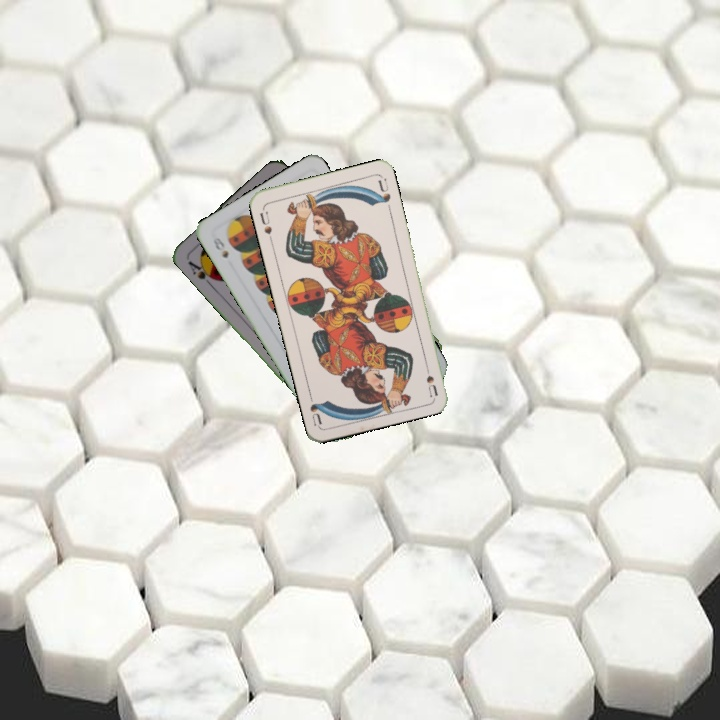S8: (209, 233, 231, 261)
SA: (184, 256, 219, 288)
SU: (421, 357, 440, 398), (255, 207, 275, 244)
